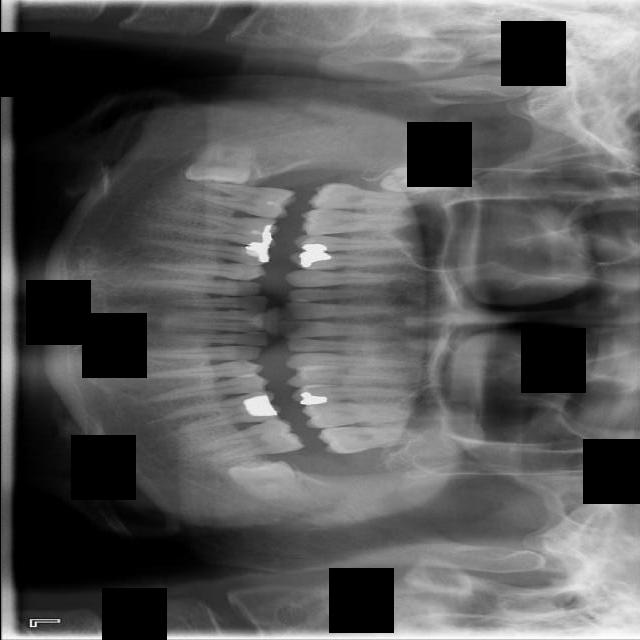3M ESPE Implant: (378, 167, 465, 193)
52: (224, 208, 281, 271), (242, 179, 297, 225), (287, 230, 340, 275), (232, 387, 282, 429), (290, 382, 338, 407)
73: (48, 604, 62, 608)
BioHorizons Implant: (316, 420, 445, 456)
Biomet 3i Implant: (225, 459, 307, 503)
Blue Sky Bio Implant: (193, 416, 305, 464)
Caries: (306, 181, 418, 210)
Implant: (174, 174, 297, 223)
Keystone Dental Implant: (183, 142, 254, 187)
